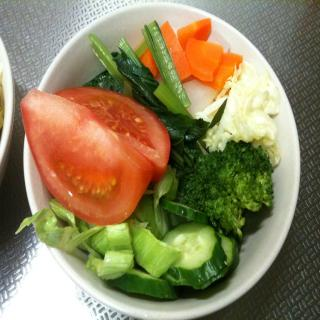tomato: (24, 83, 169, 227)
